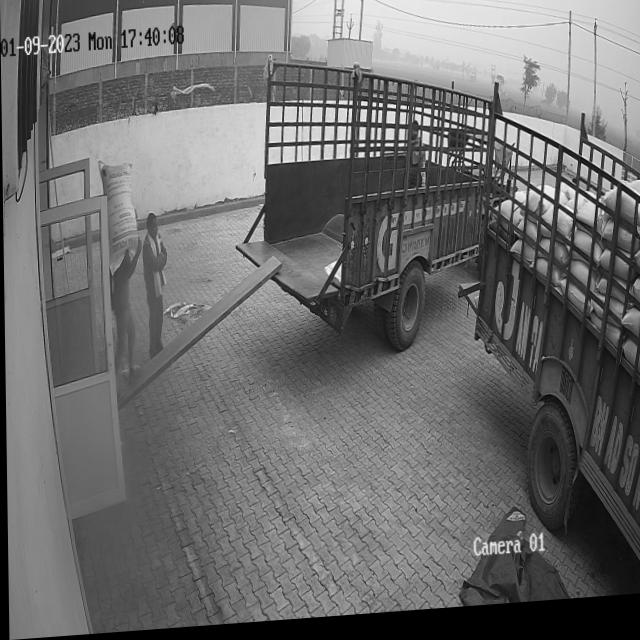sack: (97, 159, 137, 276)
